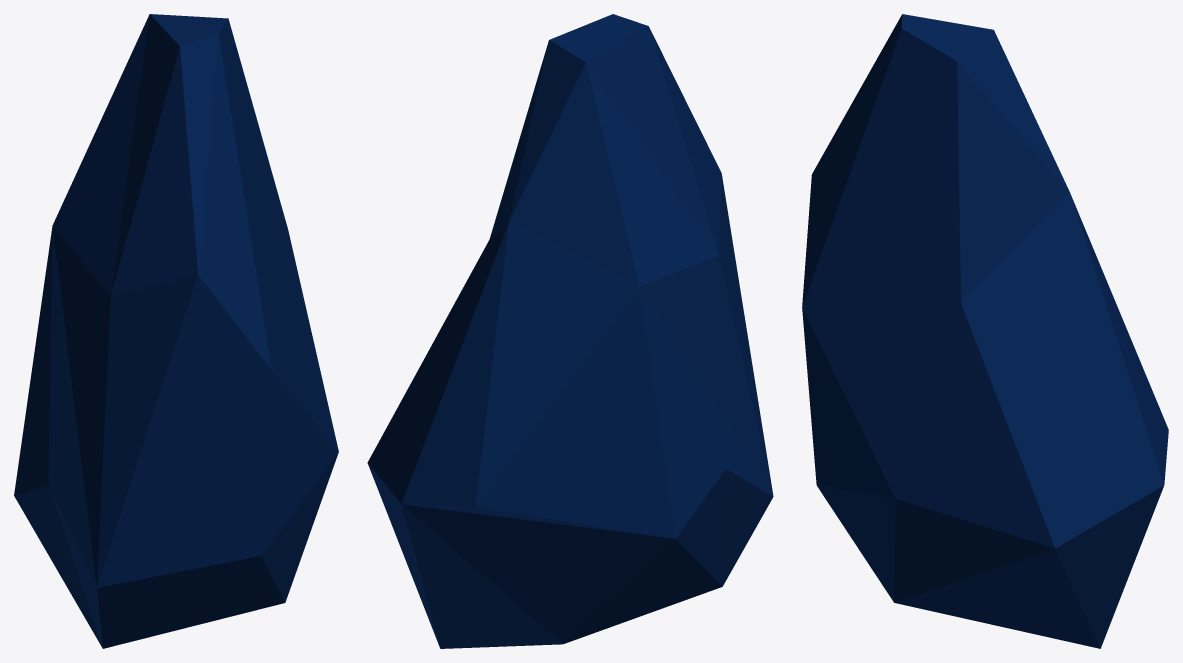
File: Cave_stone_8.glb
3 views of the same model, side by side, from view 1: azimuth 30°, elevation 25°; view 2: azimuth 150°, elevation 25°; view 3: azimuth 270°, elevation 25° (orthographic). The views are drawn at different scales.
Parts seen in each view (by area): view 1: Cave_stone_08; view 2: Cave_stone_08; view 3: Cave_stone_08.
Boxes of the visible parts, x1,y1,x2,y2 form: Cave_stone_08: (14,14,338,648); Cave_stone_08: (367,14,773,648); Cave_stone_08: (802,14,1168,648).
Bounding box in the file's own units: 1.07 × 1.95 × 1.11.
